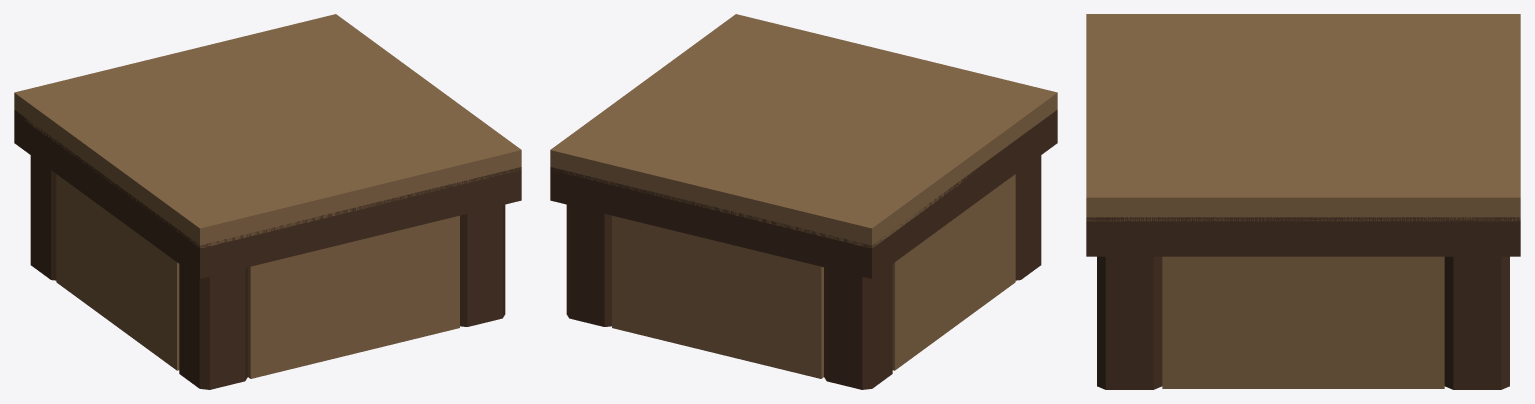
The model's file is foundation_timber_lod0.glb.
The picture shows the model from 3 angles, left to right: view 1: azimuth 30°, elevation 25°; view 2: azimuth 150°, elevation 25°; view 3: azimuth 270°, elevation 25°; orthographic projection. The views are drawn at different scales.
Parts seen in each view (by area): view 1: foundation_timber; view 2: foundation_timber; view 3: foundation_timber.
Part boxes in pixels (x1,y1,x2,y2): foundation_timber: (14,14,521,389); foundation_timber: (550,14,1057,389); foundation_timber: (1086,14,1520,389).
Bounding box in the file's own units: 2 × 1 × 2.
